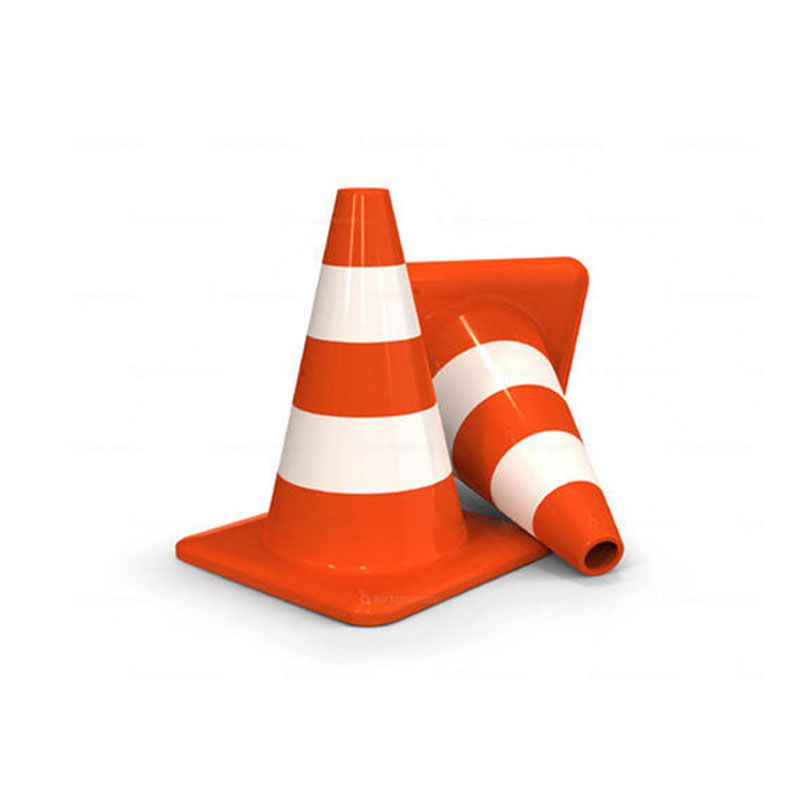Road_cone: (145, 184, 573, 632), (398, 226, 641, 584)
